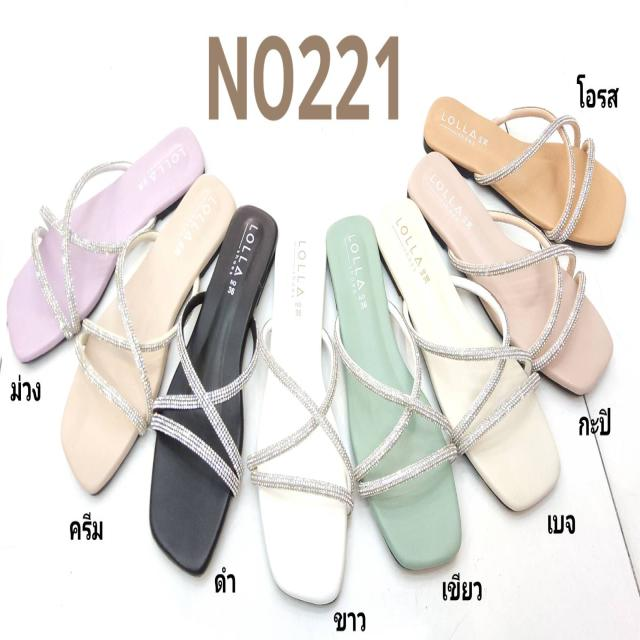bej: (373, 200, 556, 521)
black: (147, 208, 276, 573)
cream: (57, 175, 234, 496)
green: (324, 214, 459, 572)
kapi: (412, 154, 613, 388)
orot: (422, 96, 625, 249)
purple: (4, 126, 200, 354)
white: (254, 233, 348, 602)
